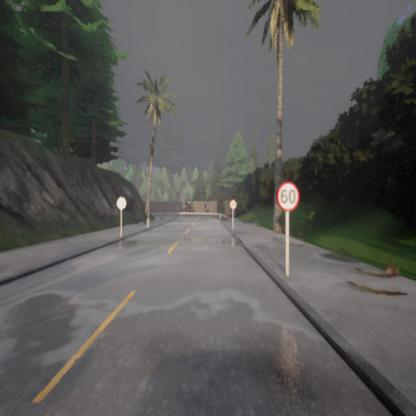traffic_sign_60: (276, 182, 300, 211)
